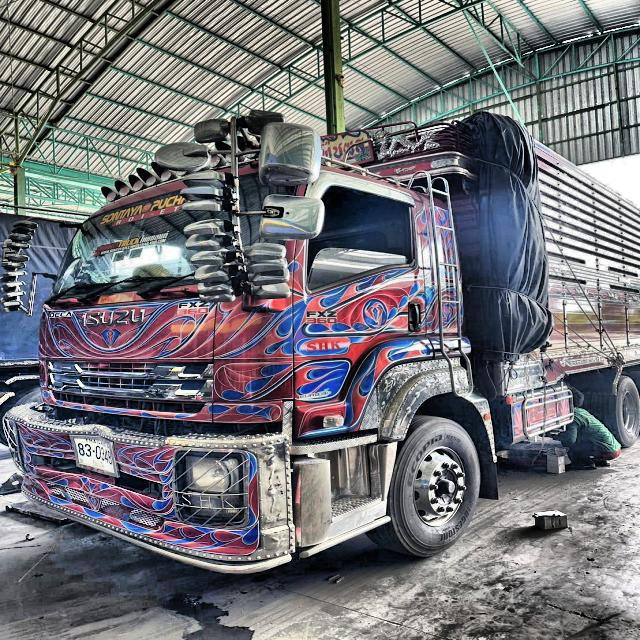trailer: (0, 95, 640, 571)
